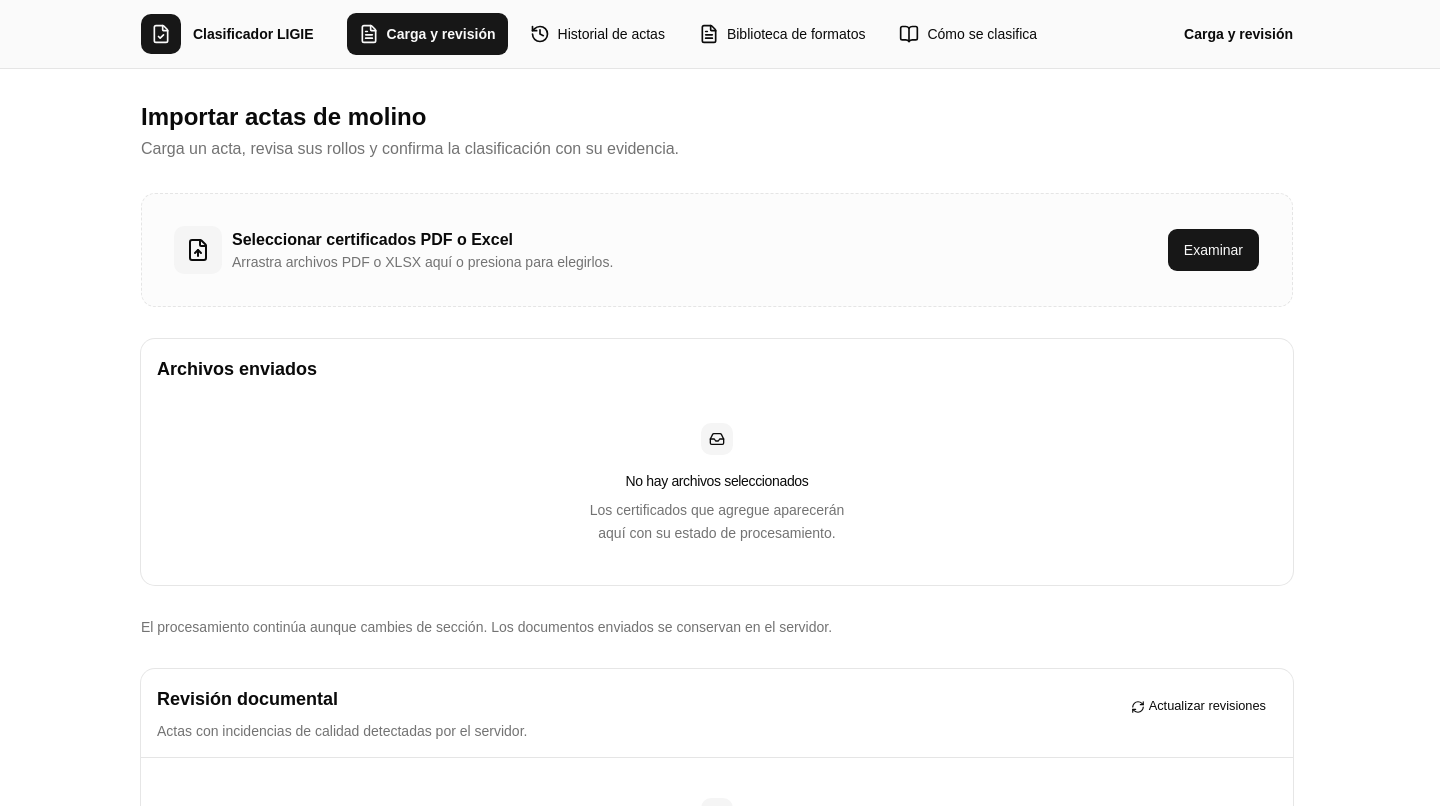
Test case: Carga, revisión e historial › muestra el documento sin el bloque de descarte del historial
Click the button "Historial de actas" at (597, 34), box [516, 12, 678, 56]
(page scrolled)
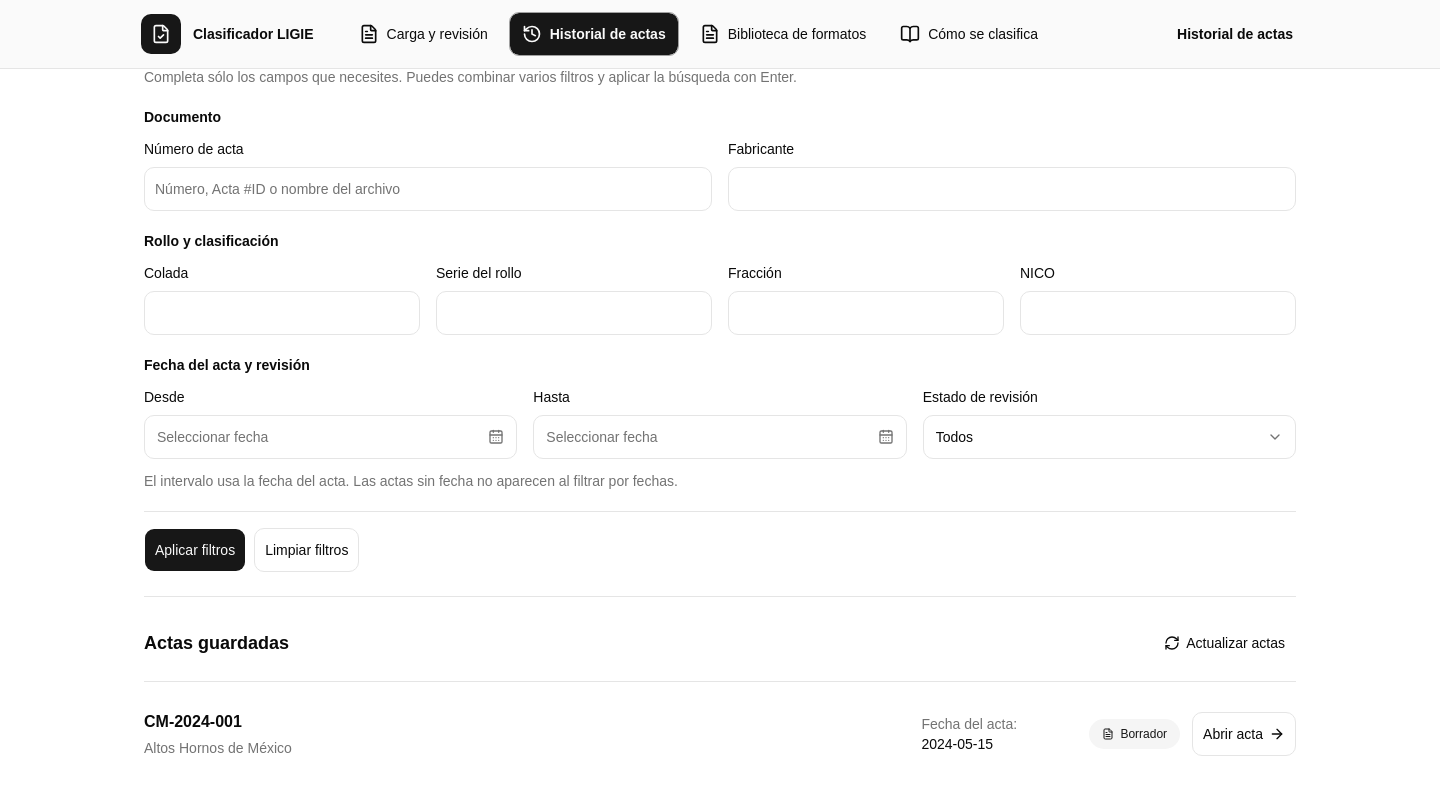
Click the button "Abrir acta" at (1244, 734), box [1192, 712, 1296, 756]
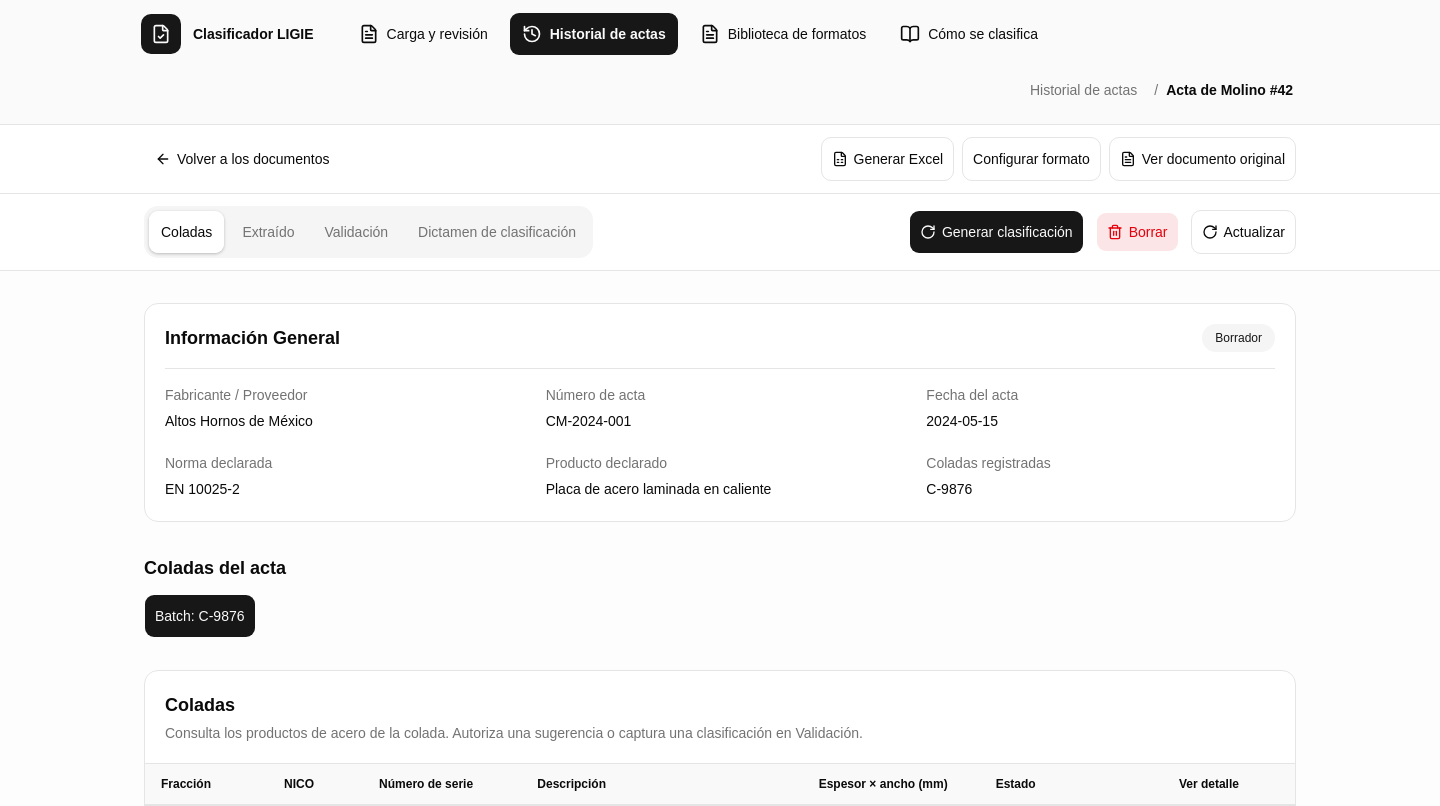
Expected: the heading "Información General" is shown, [165, 324, 340, 352]
